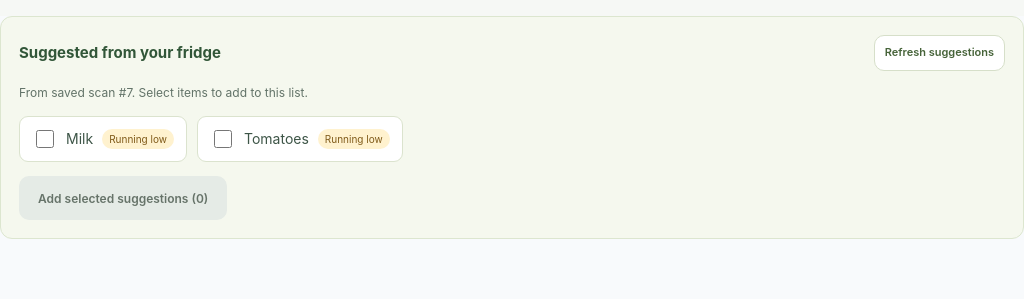
Test: requires approval, bulk adds selected IDs and blocks repeated clicks
This screenshot has width=1024, height=299.
Click the checkbox labelled "Milk Running low" at {"x": 45, "y": 139}, box [36,130,54,148]
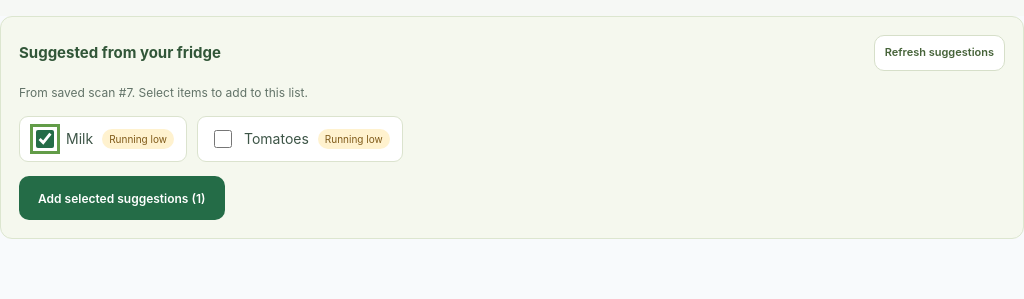
Click the checkbox labelled "Tomatoes Running low" at {"x": 223, "y": 139}, box [214,130,232,148]
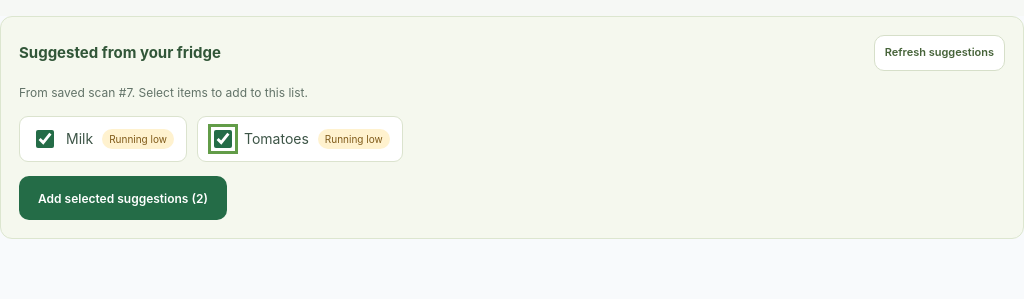
Double-click the button "Add selected suggestions (2)" at {"x": 123, "y": 198}, box [19,176,227,220]
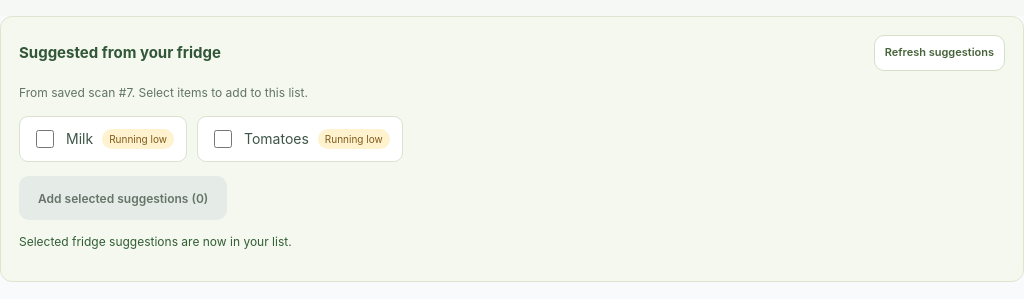
Expected: the text "Selected fridge suggestions are now in your list." is shown, [19,234,292,249]
